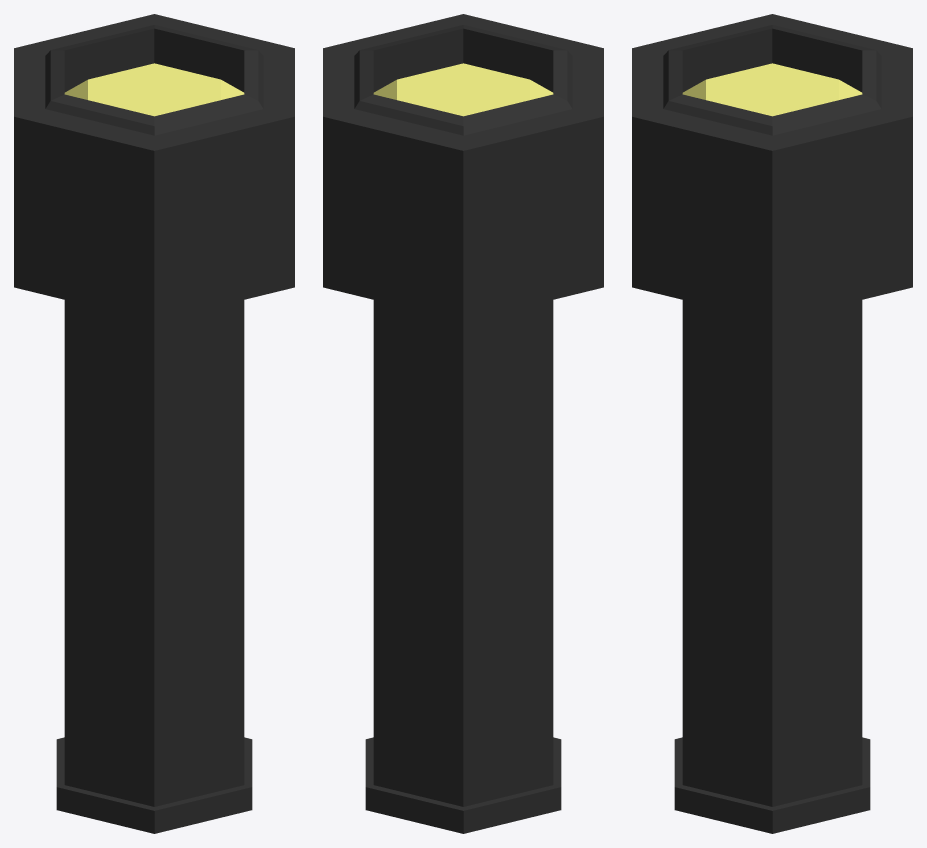
Rendered from lampa.fbx.
The picture shows the model from 3 angles, left to right: view 1: azimuth 30°, elevation 25°; view 2: azimuth 150°, elevation 25°; view 3: azimuth 270°, elevation 25°; orthographic projection.
Visible parts, largest first — view 1: lampa; view 2: lampa; view 3: lampa.
Part boxes in pixels (<box>): lampa: <box>14,14,294,833</box>; lampa: <box>323,14,603,833</box>; lampa: <box>632,14,912,833</box>.
Size of the model in its own units: 156 by 380 by 135.
